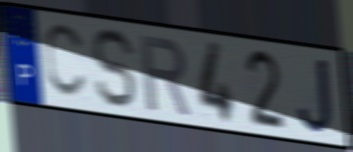2: (243, 46, 288, 133)
4: (195, 38, 238, 126)
C: (42, 22, 88, 102)
J: (295, 55, 336, 136)
R: (138, 31, 193, 118)
S: (90, 25, 140, 111)
